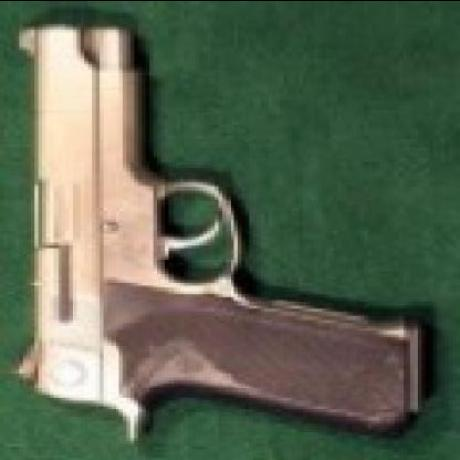weapon: (1, 12, 435, 460)
